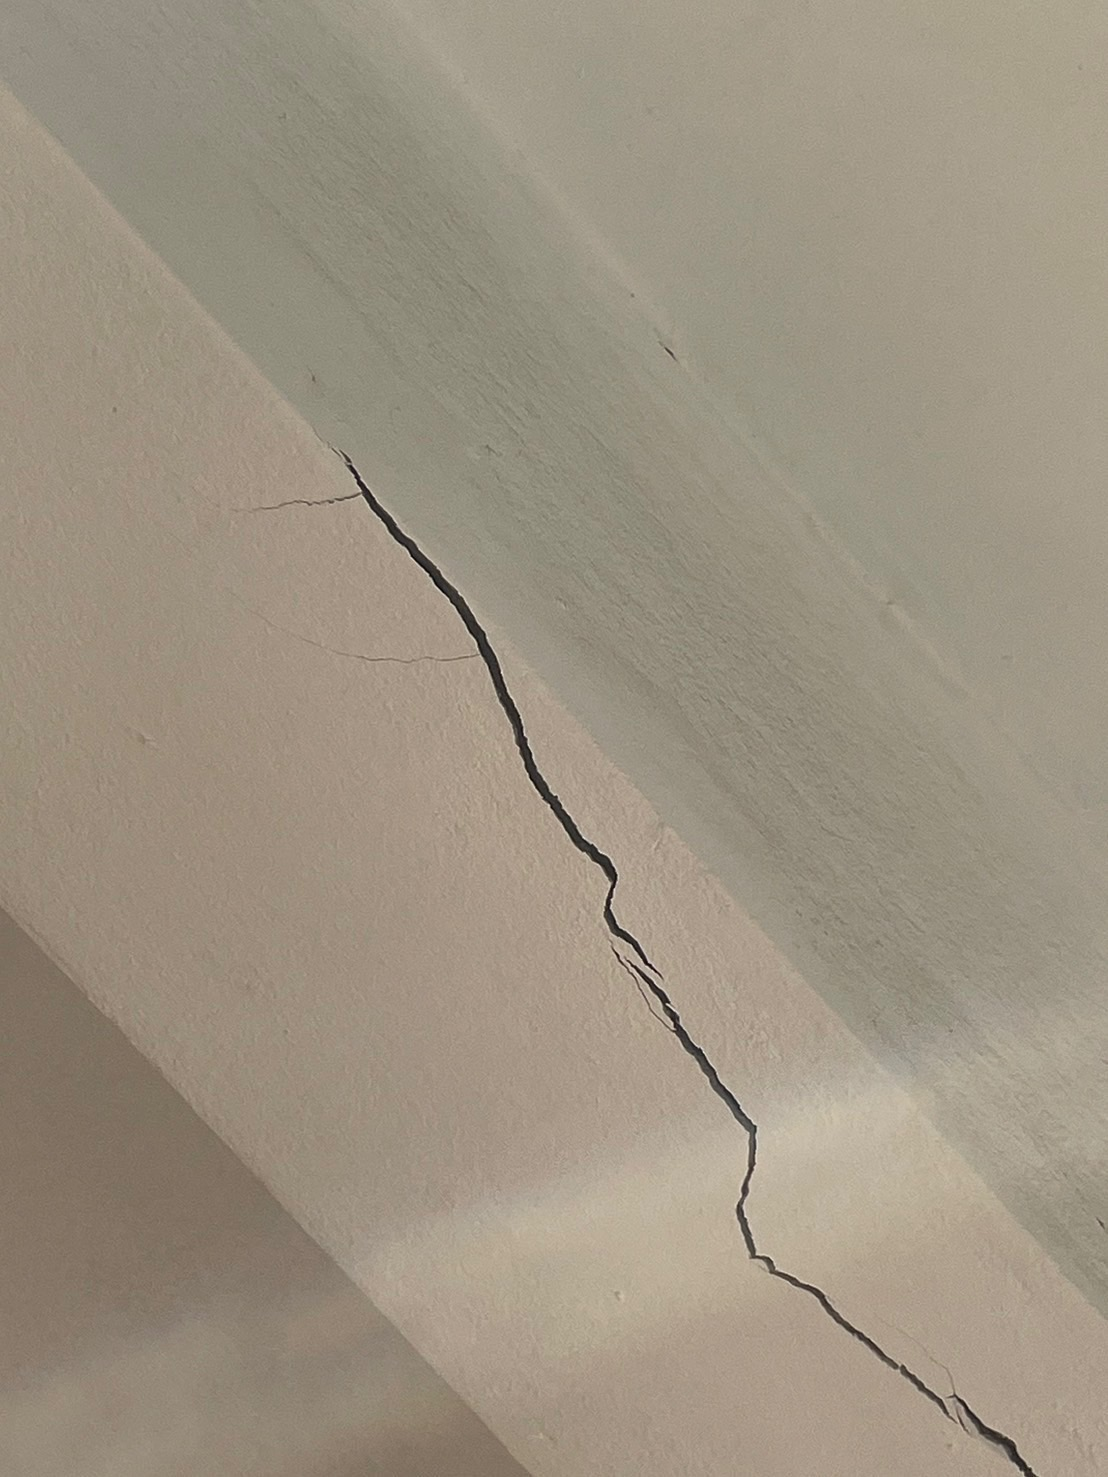Medium: (328, 446, 1021, 1409)
